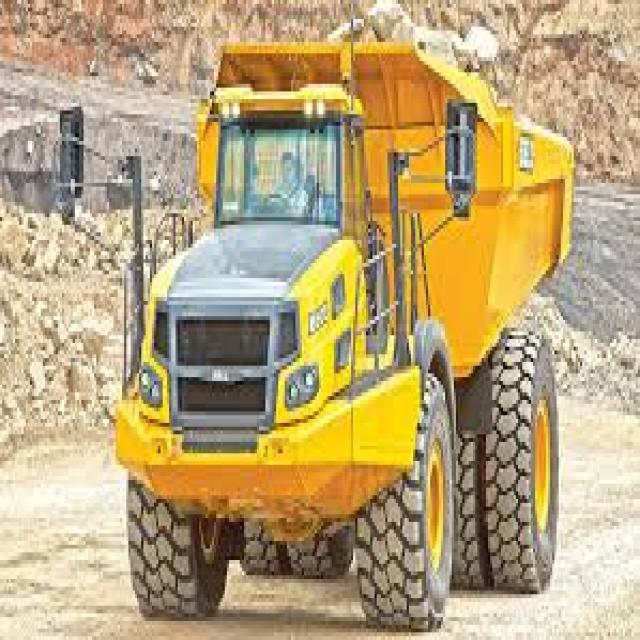dump_truck: (60, 27, 580, 632)
